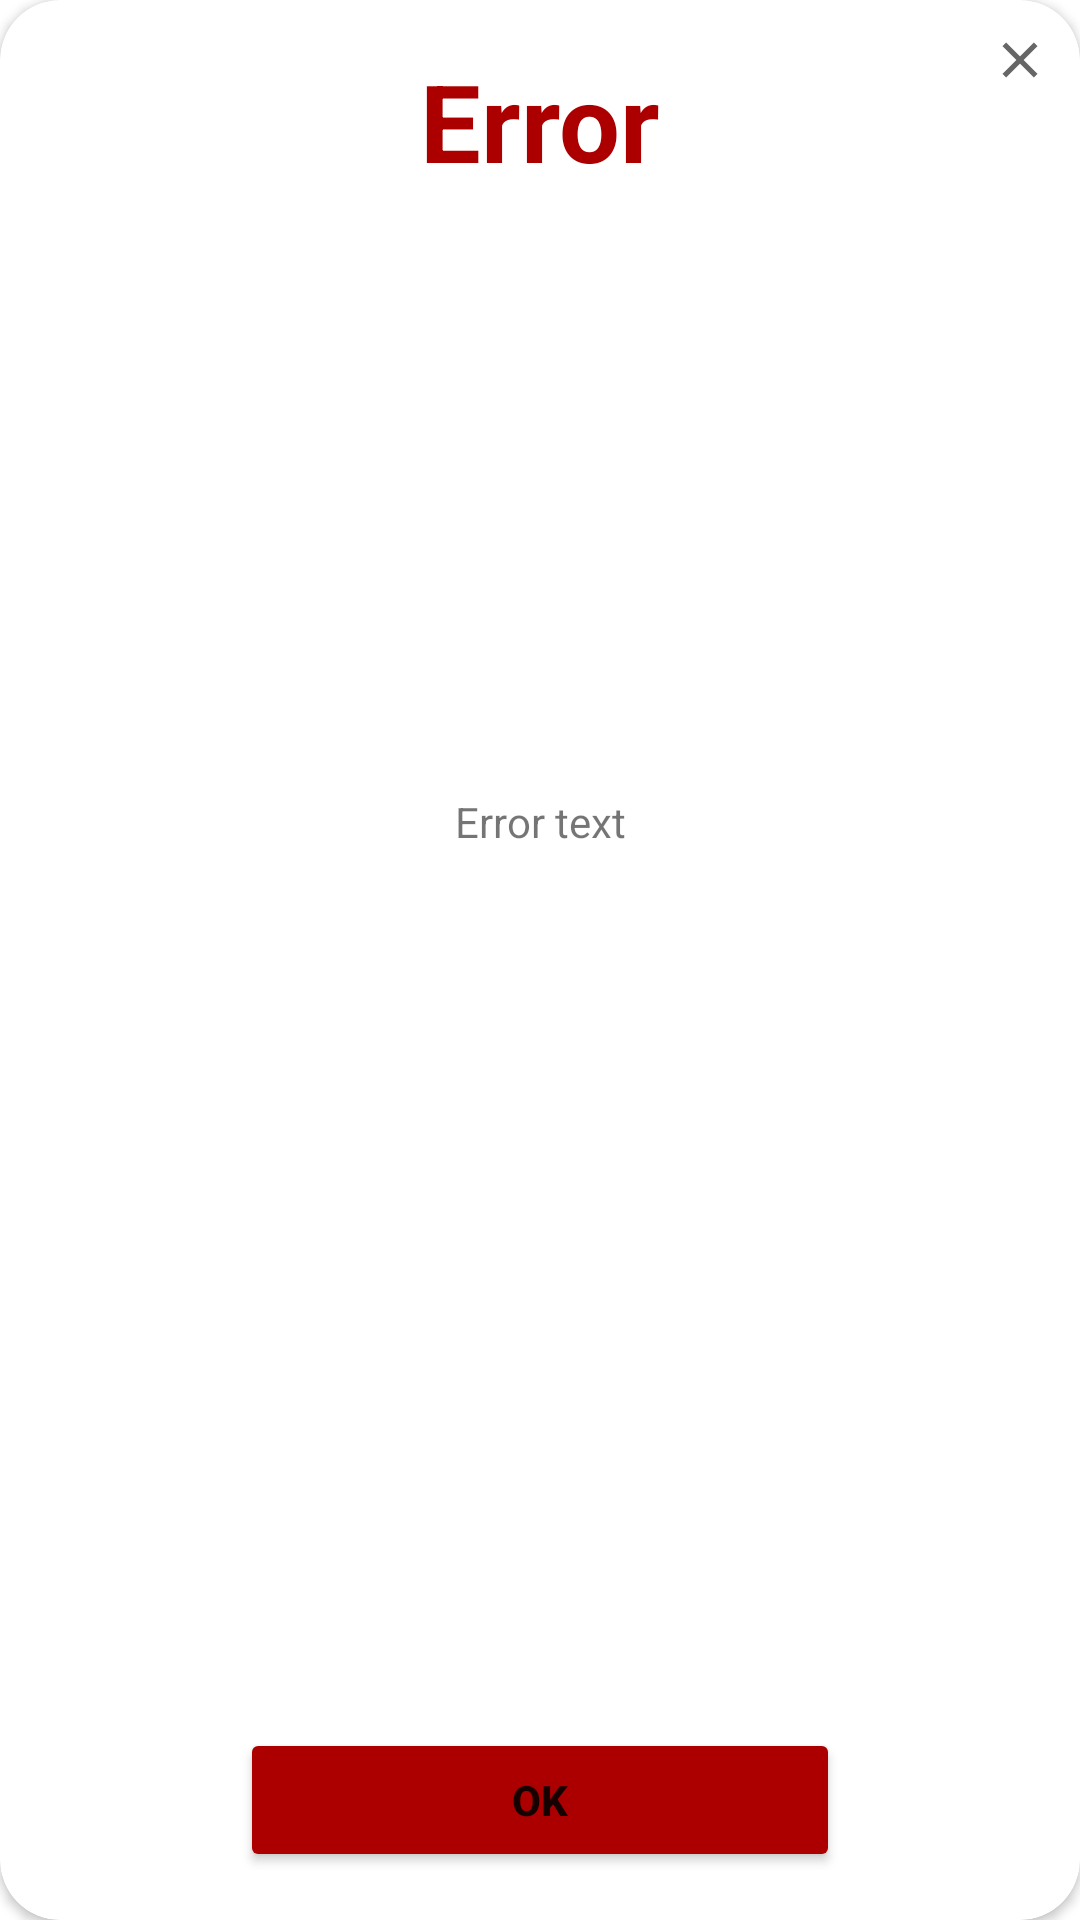

Where icons sit on this 1080px×1920px app screen, as (x1, y1, x2, y2):
close: (1002, 42, 1038, 78)
